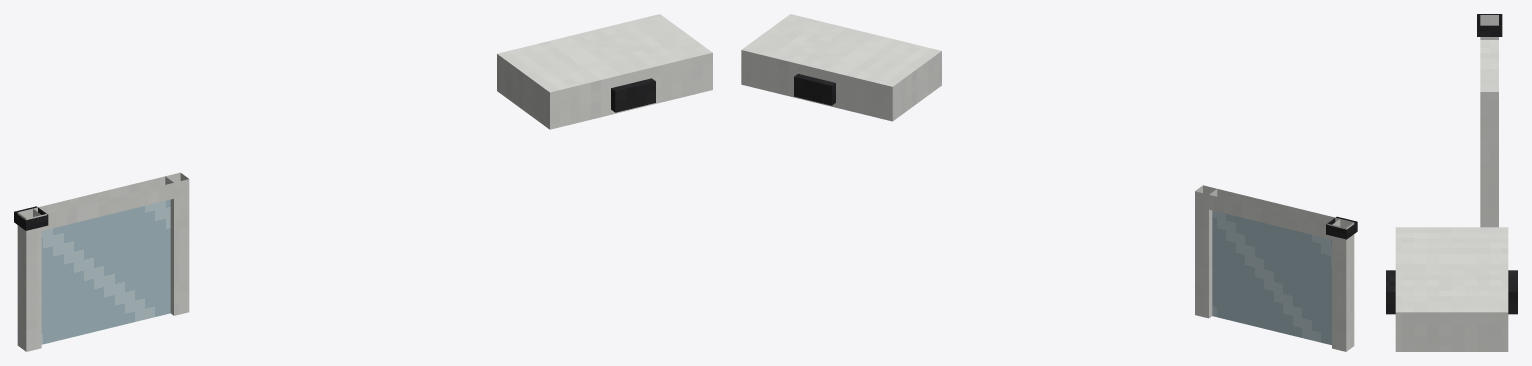
Rendered from auto_door_tele_slider_white_c2_upper_left_open.obj.
3 renders of one model, left to right at view 1: azimuth 30°, elevation 25°; view 2: azimuth 150°, elevation 25°; view 3: azimuth 270°, elevation 25°, orthographic. The views are drawn at different scales.
Visible parts, largest first — view 1: auto_door_tele_slider_white_c2_upper_left_open; view 2: auto_door_tele_slider_white_c2_upper_left_open; view 3: auto_door_tele_slider_white_c2_upper_left_open.
Boxes of the visible parts, <box> form: auto_door_tele_slider_white_c2_upper_left_open: <box>14,14,712,351</box>; auto_door_tele_slider_white_c2_upper_left_open: <box>741,14,1357,351</box>; auto_door_tele_slider_white_c2_upper_left_open: <box>1386,14,1517,351</box>.
Bounding box in the file's own units: 3.98 × 1 × 0.6562.
